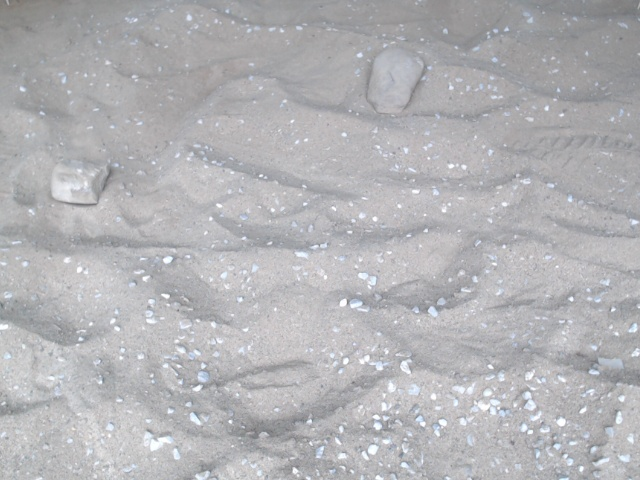rock: (361, 41, 431, 120), (45, 153, 115, 211)
